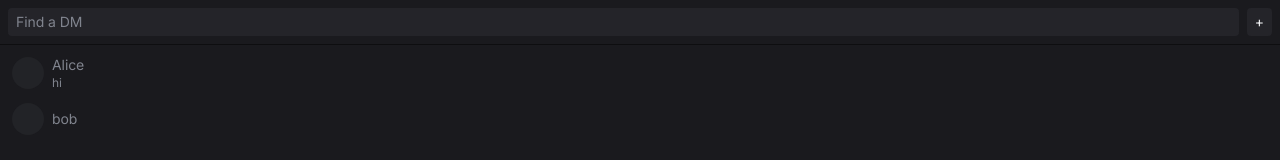
it: <DMList> › renders DMs in API order and supports filtering
Expected: the text "Alice" is shown, x1=52 y1=56 x2=84 y2=73
Expected: the text "bob" is shown, x1=52 y1=110 x2=77 y2=127
Type "al" into the field with placeholder "Find a DM" at coordinates (623, 22), box x1=8 y1=8 x2=1239 y2=36
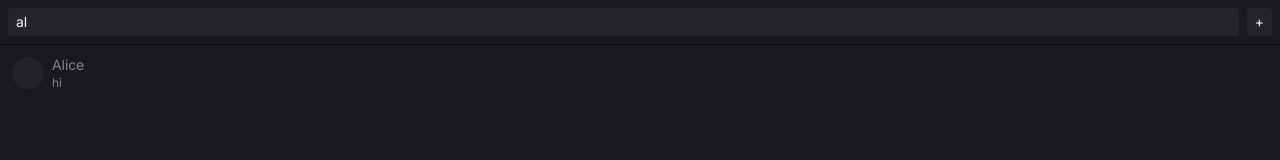
Expected: the text "Alice" is shown, x1=52 y1=56 x2=84 y2=73
Result: the button "bob" is gone
